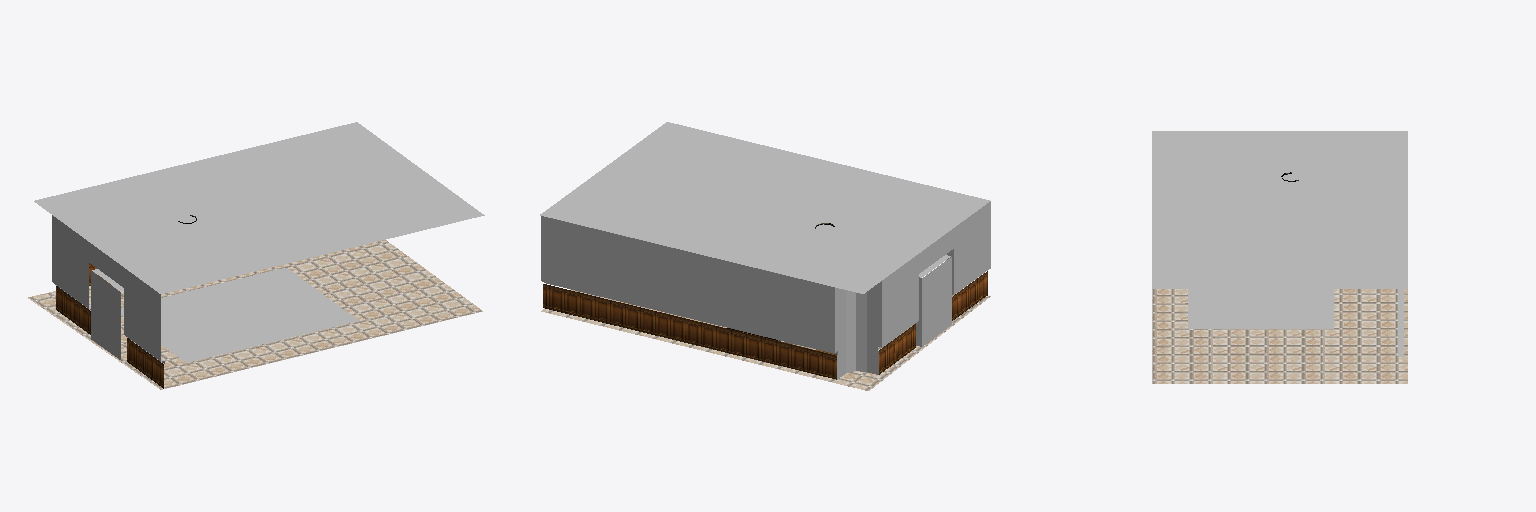
The picture shows the model from 3 angles: view 1: azimuth 30°, elevation 25°; view 2: azimuth 150°, elevation 25°; view 3: azimuth 270°, elevation 25°; orthographic projection.
Visible parts, largest first — view 1: Collection_1#__Lobby#__Lobbly_Model; view 2: Collection_1#__Lobby#__Lobbly_Model; view 3: Collection_1#__Lobby#__Lobbly_Model.
Boxes of the visible parts, x1,y1,x2,y2 form: Collection_1#__Lobby#__Lobbly_Model: [28, 122, 484, 389]; Collection_1#__Lobby#__Lobbly_Model: [540, 122, 990, 390]; Collection_1#__Lobby#__Lobbly_Model: [1152, 131, 1407, 383].
Size of the model in its own units: 465 by 131 by 313.
Materials: 17 (10 with a texture image).